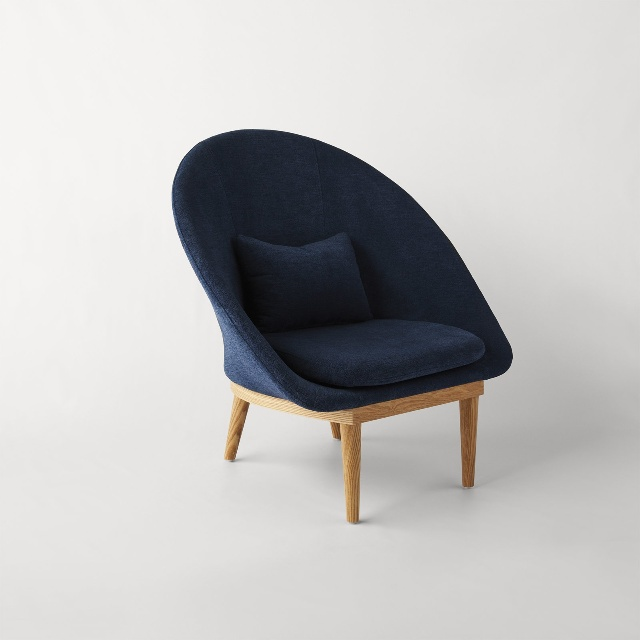obstacle: (172, 130, 512, 522)
